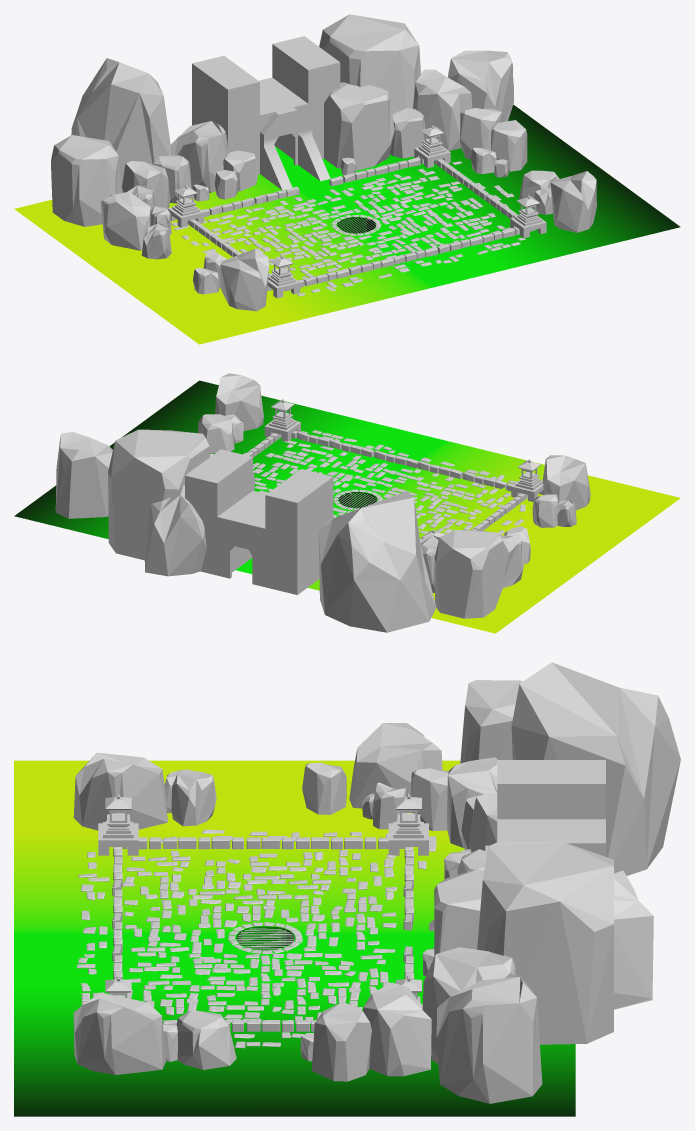
The model's file is scene_boss.FBX.
3 renders of one model, top to bottom at view 1: azimuth 30°, elevation 25°; view 2: azimuth 150°, elevation 25°; view 3: azimuth 270°, elevation 25°, orthographic. The views are drawn at different scales.
Parts seen in each view (by area): view 1: mesh_rocas, Plane002, Object001, puerta, linterna_baja003, linterna_baja, linterna_baja001, linterna_baja002; view 2: mesh_rocas, Plane002, puerta, Object001, linterna_baja003, linterna_baja002; view 3: mesh_rocas, Plane002, Object001, puerta, linterna_baja002, linterna_baja, Cylinder001.
Boxes of the visible parts, x1=… form: mesh_rocas: x1=51, y1=14, x2=596, y2=311; Plane002: x1=14, y1=104, x2=680, y2=344; Object001: x1=171, y1=157, x2=535, y2=296; puerta: x1=192, y1=36, x2=340, y2=190; linterna_baja003: x1=510, y1=195, x2=546, y2=238; linterna_baja: x1=168, y1=185, x2=204, y2=227; linterna_baja001: x1=414, y1=125, x2=450, y2=167; linterna_baja002: x1=267, y1=255, x2=300, y2=298; mesh_rocas: x1=55, y1=373, x2=590, y2=632; Plane002: x1=14, y1=380, x2=680, y2=633; puerta: x1=185, y1=449, x2=333, y2=594; Object001: x1=242, y1=430, x2=527, y2=539; linterna_baja003: x1=264, y1=399, x2=300, y2=441; linterna_baja002: x1=511, y1=459, x2=544, y2=501; mesh_rocas: x1=73, y1=662, x2=680, y2=1103; Plane002: x1=14, y1=760, x2=575, y2=1116; Object001: x1=77, y1=829, x2=436, y2=1048; puerta: x1=429, y1=760, x2=605, y2=948; linterna_baja002: x1=98, y1=793, x2=138, y2=855; linterna_baja: x1=388, y1=793, x2=428, y2=855; Cylinder001: x1=236, y1=928, x2=294, y2=950.
Bounding box in the file's own units: 30 × 9.69 × 23.76.
